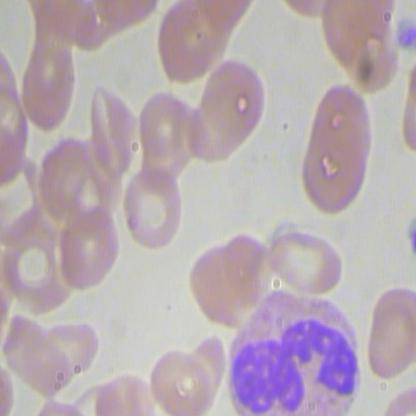RBC: (195, 58, 275, 146), (303, 74, 383, 162), (298, 126, 378, 214), (1, 311, 73, 401), (184, 242, 254, 329), (269, 225, 348, 299), (122, 167, 185, 258), (57, 205, 120, 296), (18, 42, 81, 133), (131, 88, 197, 167), (363, 286, 415, 385), (148, 344, 215, 415)
WBC: (223, 290, 363, 415)
